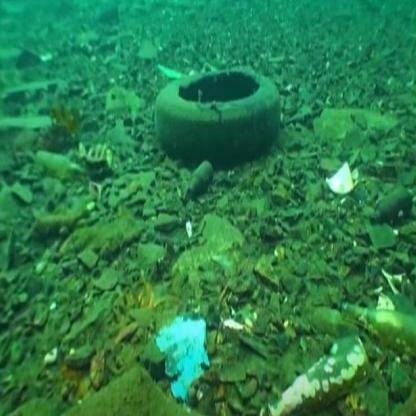gbottle: (181, 155, 216, 198)
tire: (150, 50, 280, 150)
